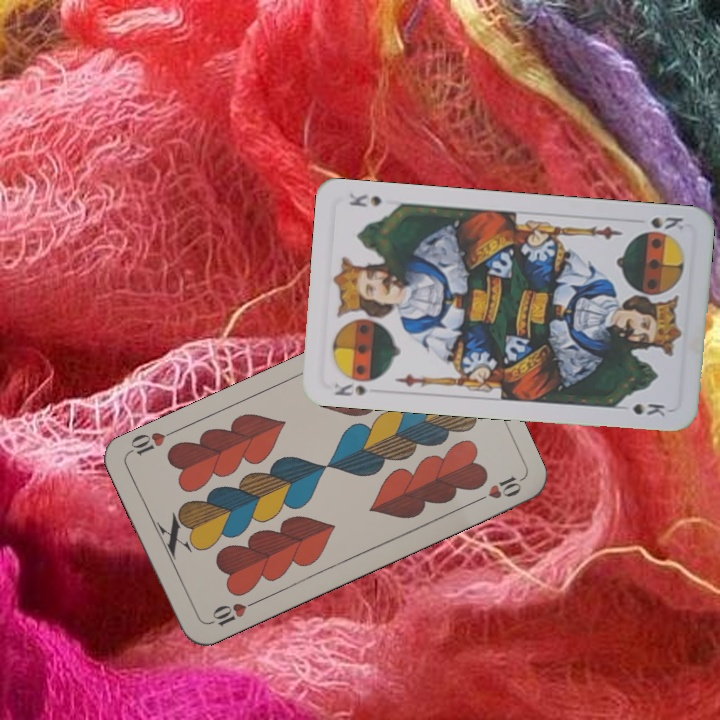H10: (204, 596, 260, 629)
SK: (330, 372, 382, 399), (646, 213, 687, 234)
